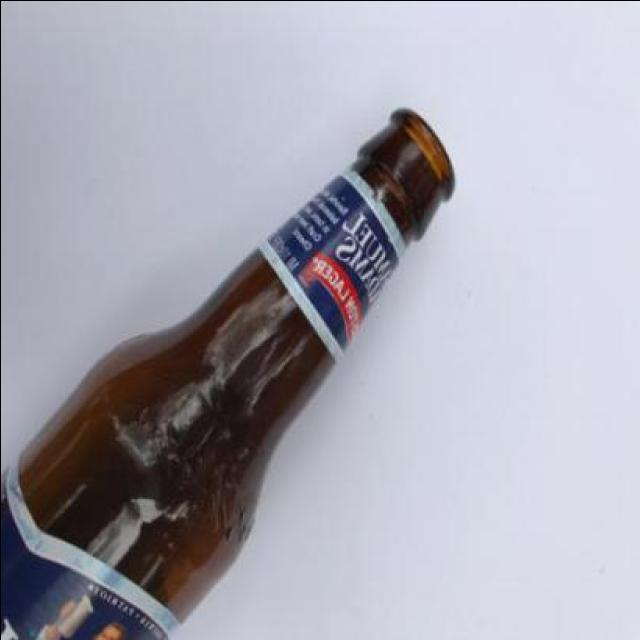kaca: (0, 103, 458, 640)
